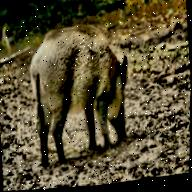boar: (13, 1, 148, 182)
